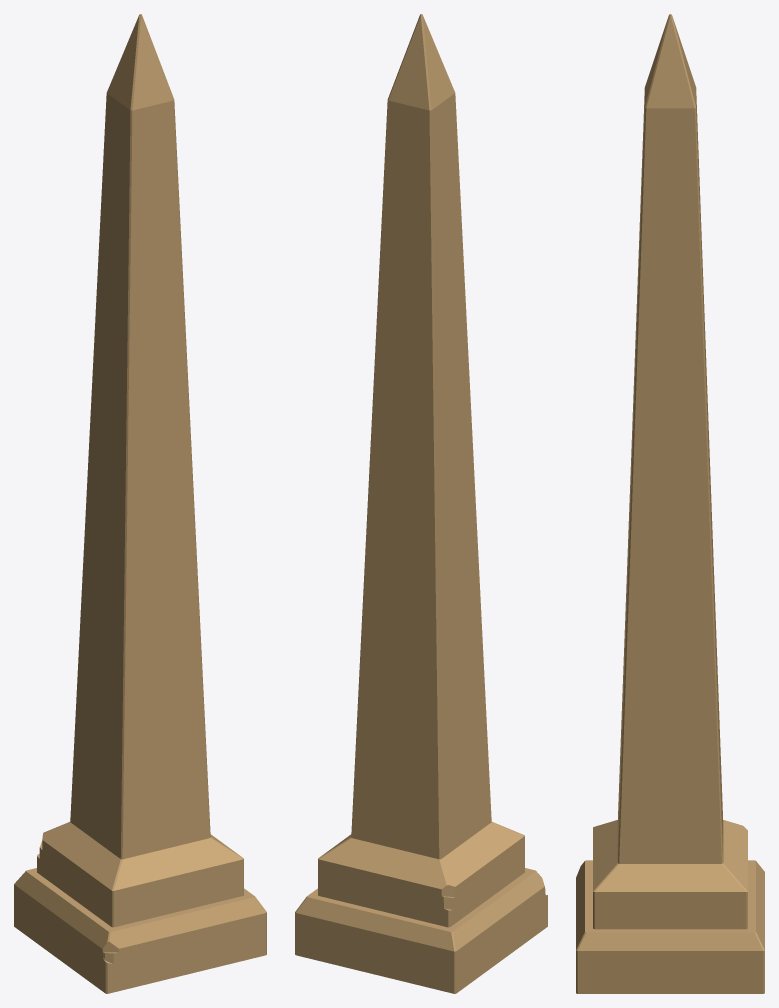
The model's file is WestObelisk.fbx.
3 renders of one model, left to right at view 1: azimuth 30°, elevation 25°; view 2: azimuth 150°, elevation 25°; view 3: azimuth 270°, elevation 25°, orthographic.
Parts seen in each view (by area): view 1: SunPillar; view 2: SunPillar; view 3: SunPillar.
Part boxes in pixels (box(x1,y1,x2,y2)): SunPillar: box(14, 14, 266, 993); SunPillar: box(295, 14, 547, 993); SunPillar: box(576, 14, 764, 993).
Size of the model in its own units: 1338 by 7349 by 1338.
